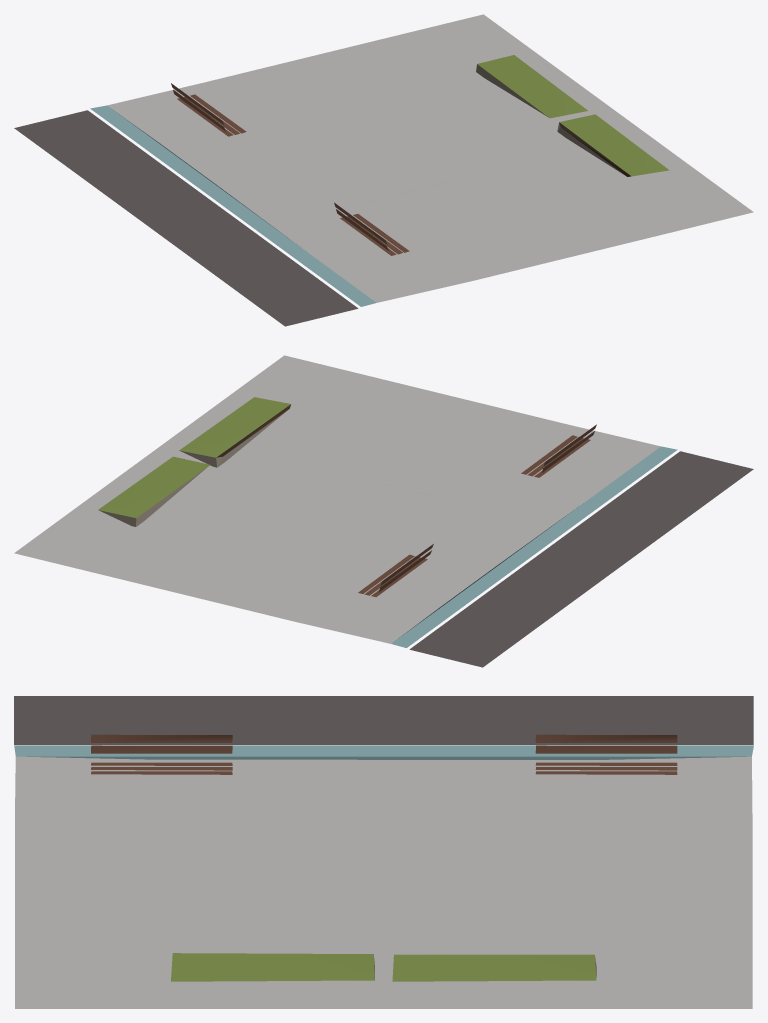
File: QmTq4g7Ry24YY68wAinLwk4Epit1PF1VjpUXQjF3VBaRAu_lod2.fbx
The picture shows the model from 3 angles, top to bottom: view 1: azimuth 30°, elevation 25°; view 2: azimuth 150°, elevation 25°; view 3: azimuth 270°, elevation 25°; orthographic projection. The views are drawn at different scales.
Parts seen in each view (by area): view 1: Entity_512; view 2: Entity_512; view 3: Entity_512.
Part boxes in pixels (x1,y1,x2,y2): Entity_512: [14, 14, 753, 326]; Entity_512: [14, 355, 753, 667]; Entity_512: [14, 696, 753, 1008].
Bounding box in the file's own units: 15907 × 1157 × 15930.
Materials: 1 (1 with a texture image).
